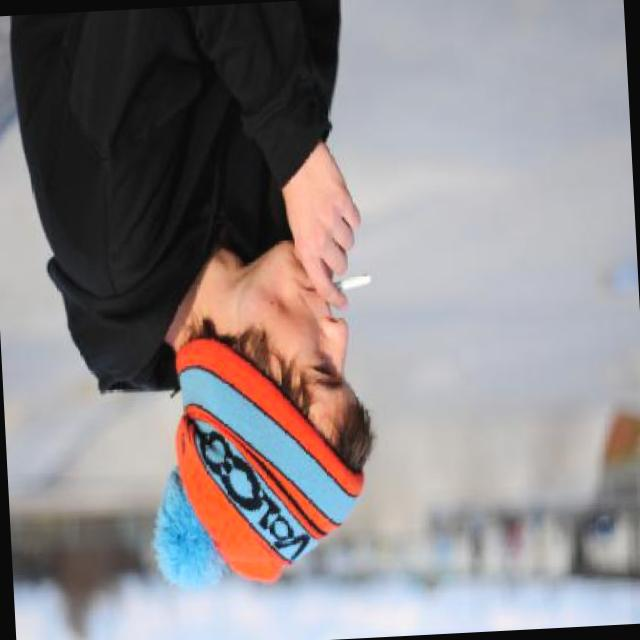smoke: (309, 260, 376, 304)
